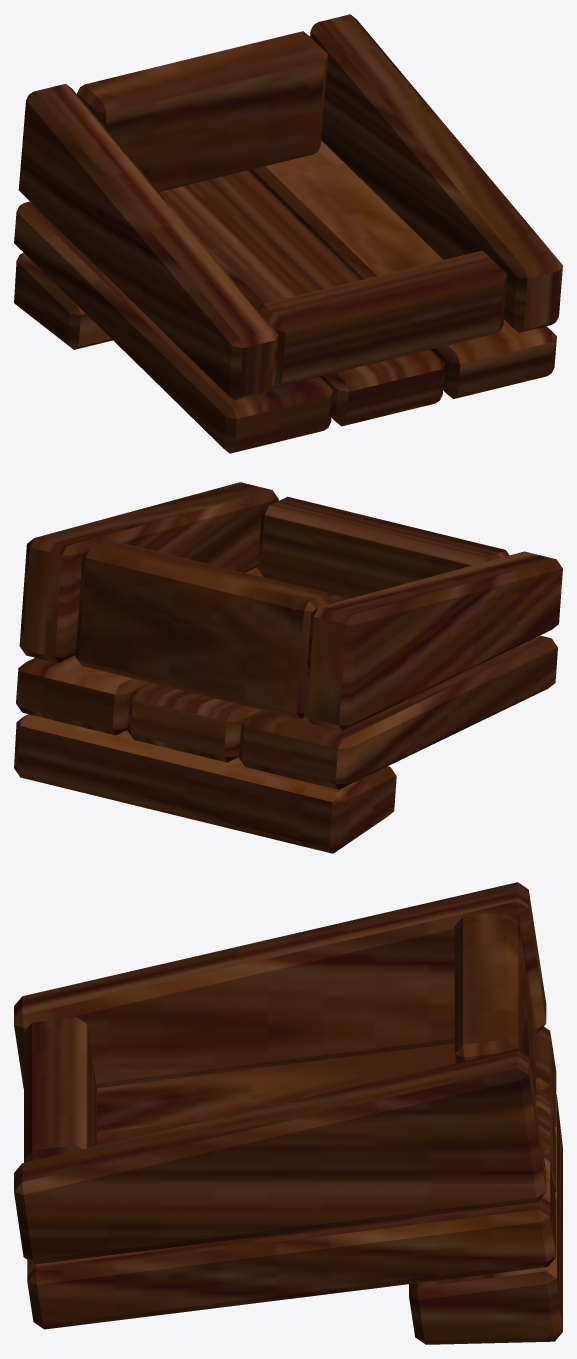
Rendered from MarketBasket.fbx.
3 renders of one model, top to bottom at view 1: azimuth 30°, elevation 25°; view 2: azimuth 150°, elevation 25°; view 3: azimuth 270°, elevation 25°, orthographic. The views are drawn at different scales.
Parts seen in each view (by area): view 1: Basket; view 2: Basket; view 3: Basket.
Boxes of the visible parts, left/top/right/bottom form: Basket: left=14, top=14, right=562, bottom=453; Basket: left=14, top=482, right=562, bottom=853; Basket: left=14, top=882, right=562, bottom=1344.
Size of the model in its own units: 91.05 by 60.64 by 109.
Materials: 1 (1 with a texture image).
